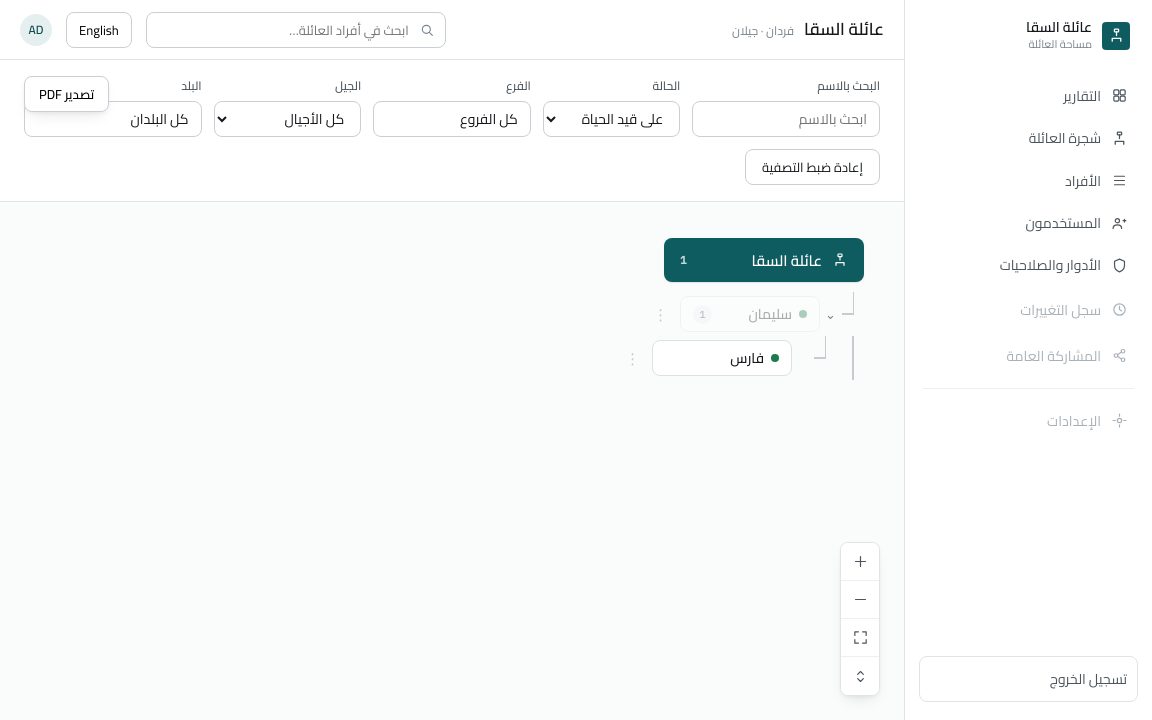
TreePage filters › lets a dimmed row be collapsed and reopened
Expected: the text "فارس" is shown, [730,345,764,371]
Click the button named "طيّ" at (831,314), box [820,303,842,325]
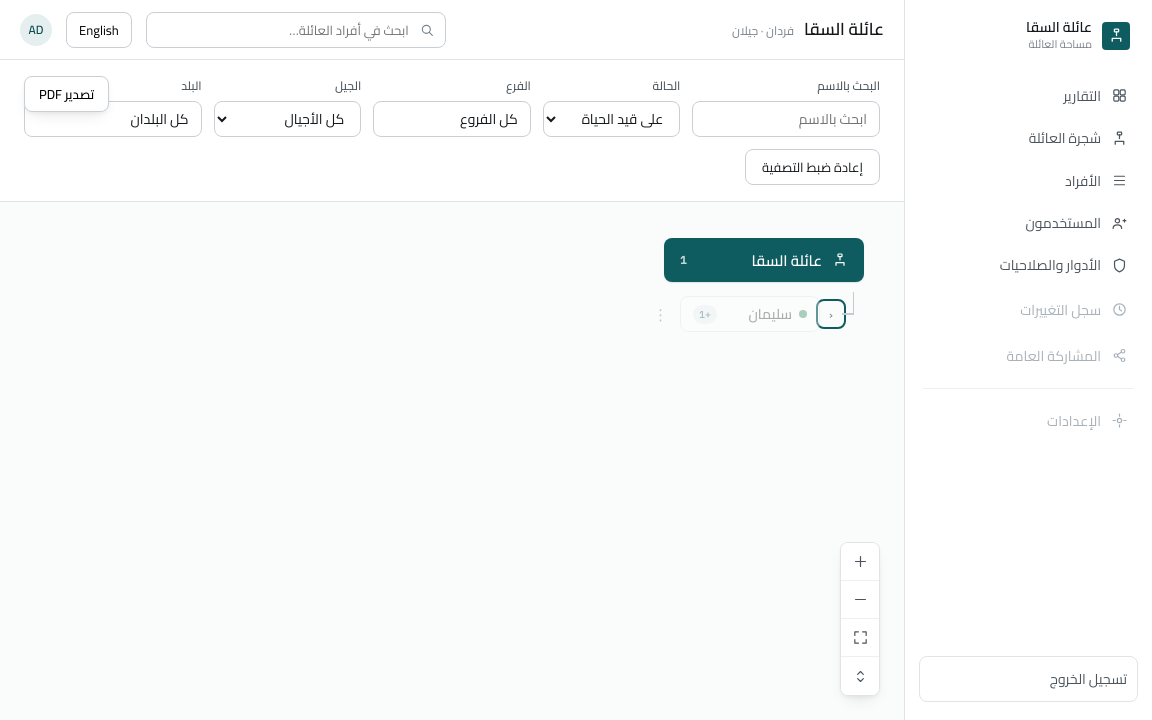
Result: the button "فارس" is gone
Click the button named "توسيع" at (831,314), box [820,303,842,325]
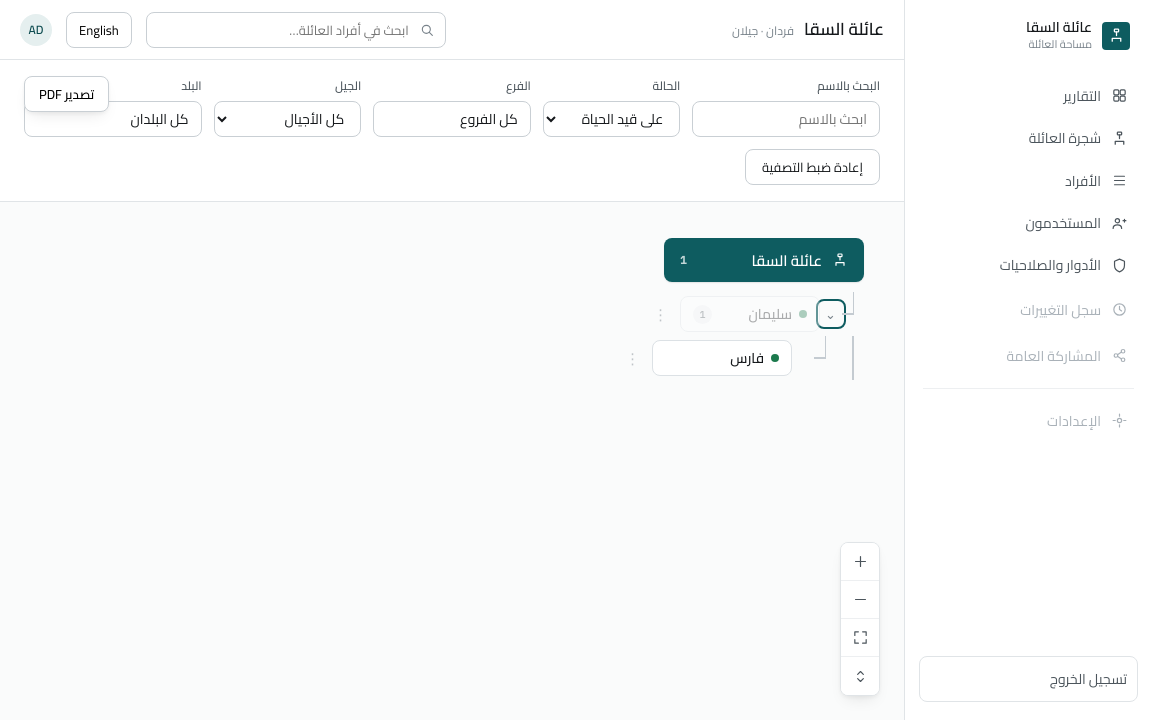
Result: the text "فارس" is shown at [730,345,764,371]
